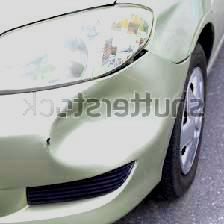bumper_dent: (32, 80, 156, 176)
